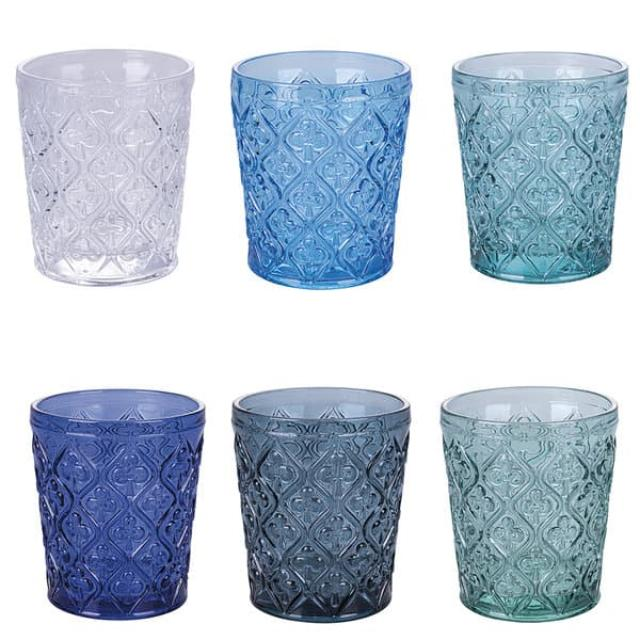glass: (226, 364, 424, 627), (7, 25, 199, 296), (228, 25, 411, 304), (447, 20, 632, 293), (30, 366, 211, 630), (435, 390, 613, 620)
